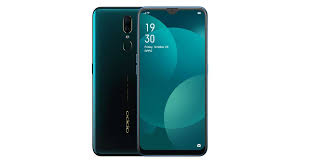oppo: (90, 6, 212, 160)
